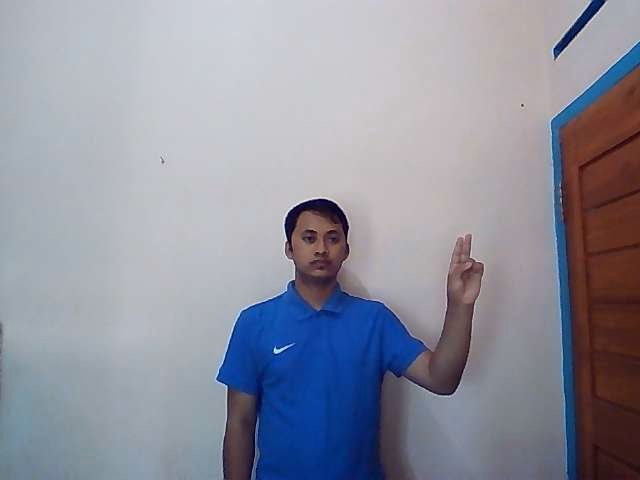U: (446, 233, 484, 305)
